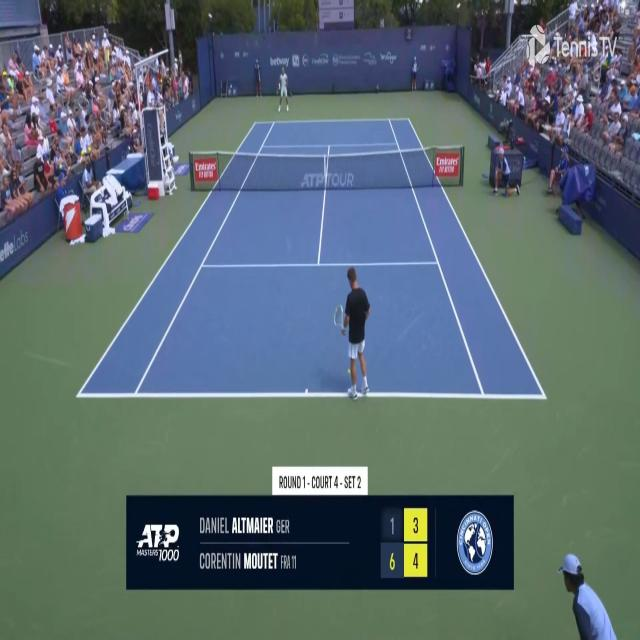tennis-player: (335, 262, 371, 402), (276, 66, 291, 114)
